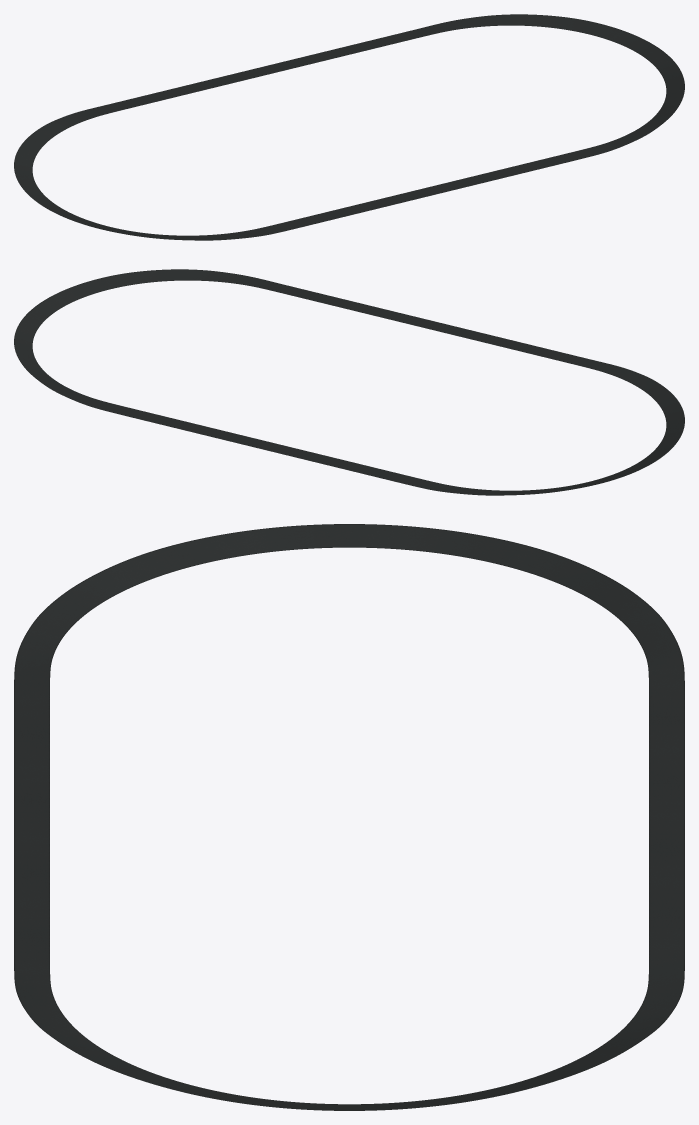
File: oval.glb
3 views of the same model, one above another, from view 1: azimuth 30°, elevation 25°; view 2: azimuth 150°, elevation 25°; view 3: azimuth 270°, elevation 25° (orthographic). The views are drawn at different scales.
Parts seen in each view (by area): view 1: 1TARMAC_oval_road_0; view 2: 1TARMAC_oval_road_0; view 3: 1TARMAC_oval_road_0.
Part boxes in pixels (left/top/right/bottom): 1TARMAC_oval_road_0: left=14, top=14, right=684, bottom=240; 1TARMAC_oval_road_0: left=14, top=269, right=684, bottom=495; 1TARMAC_oval_road_0: left=14, top=524, right=684, bottom=1110.
Bounding box in the file's own units: 611 × 4.1 × 295.
1 material, 1 textured.
